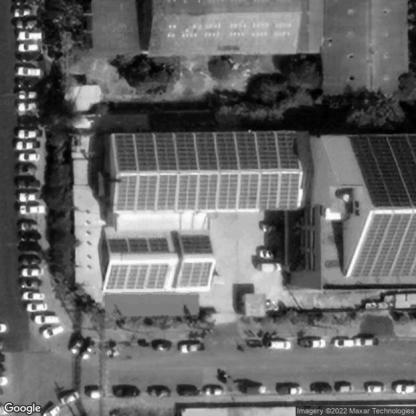solar-pv-panel: (114, 133, 299, 171), (115, 173, 300, 208), (347, 136, 416, 207), (349, 215, 416, 280), (107, 263, 171, 291), (108, 239, 169, 253), (180, 263, 211, 290), (179, 238, 214, 254)
